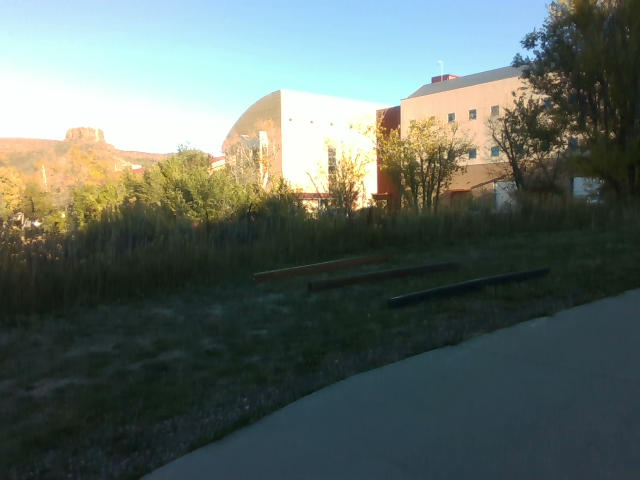dunnage: (227, 242, 558, 315)
